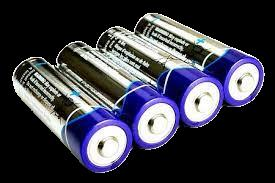Battery: (12, 57, 133, 173)
